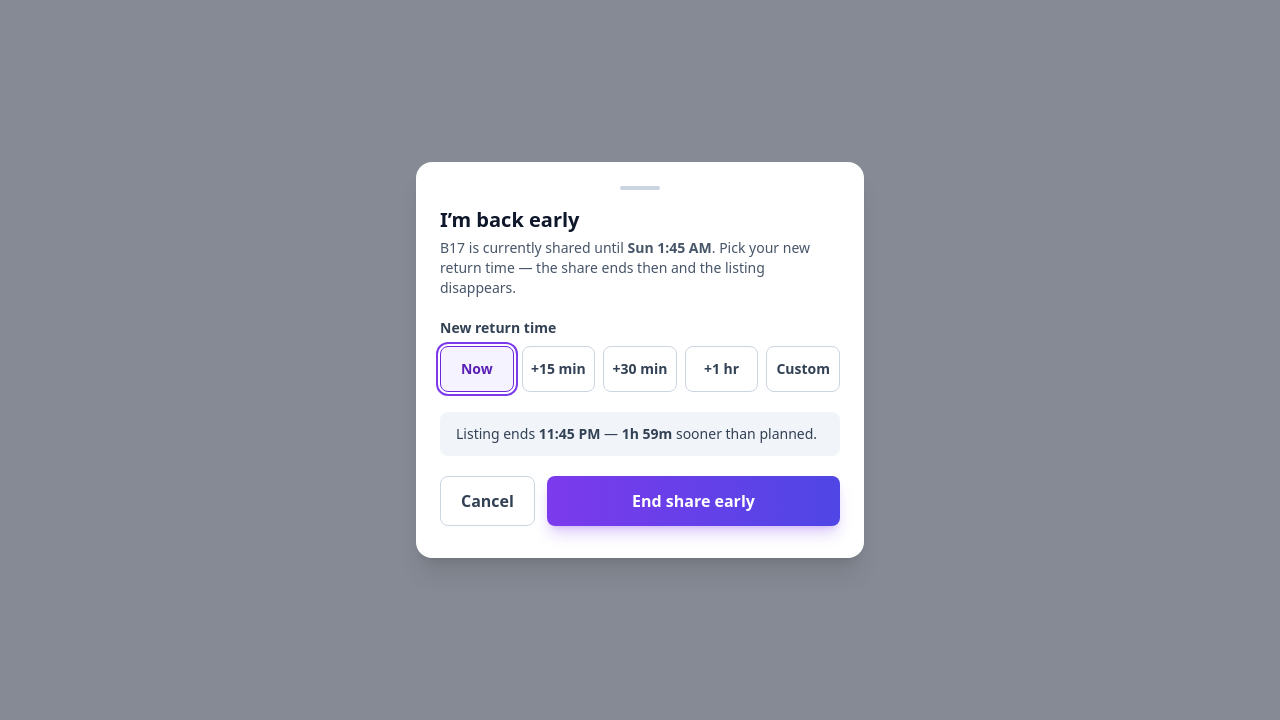
Test case: ReturnEarlyDialog › shows the friendly blocked message with the earliest available return
Click the button "End share early": (693,501) 547,476 -> 840,526
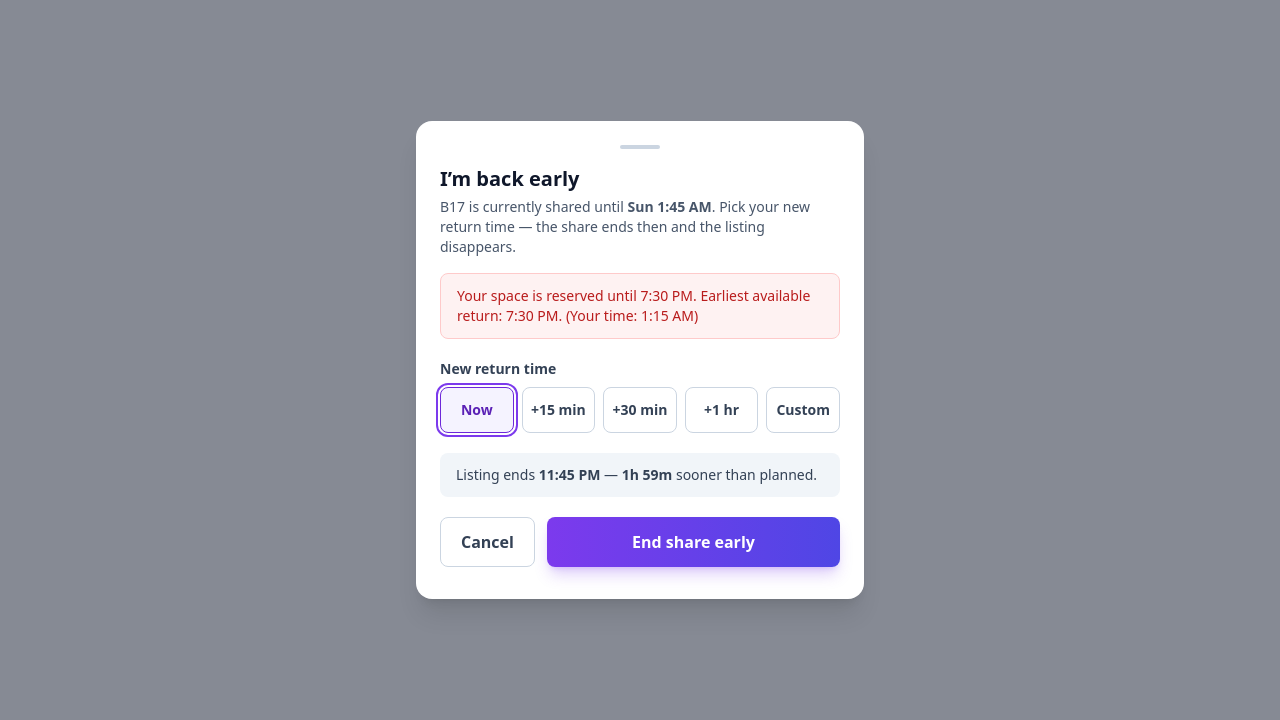
Expected: the message shows "Your space is reserved until 7:30 PM.", 457,286 -> 810,325
Expected: the message shows "(Your time:", 457,286 -> 810,325
